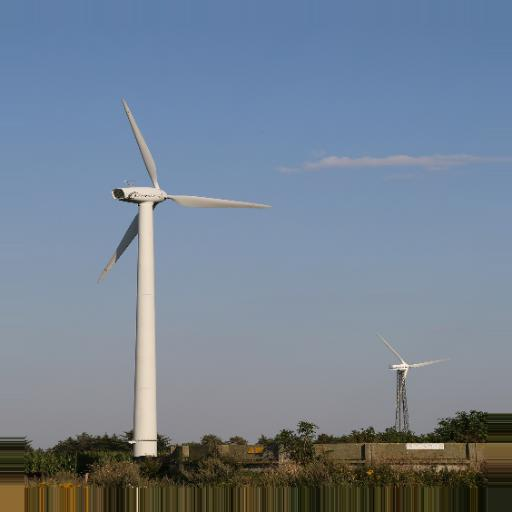wind turbine: (95, 94, 275, 454), (377, 334, 444, 436)
